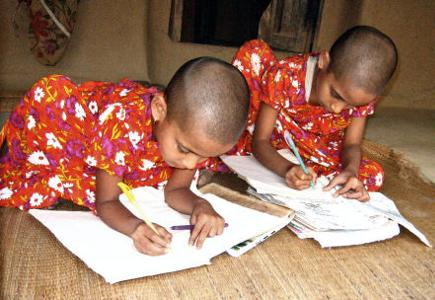person: (4, 56, 253, 259)
